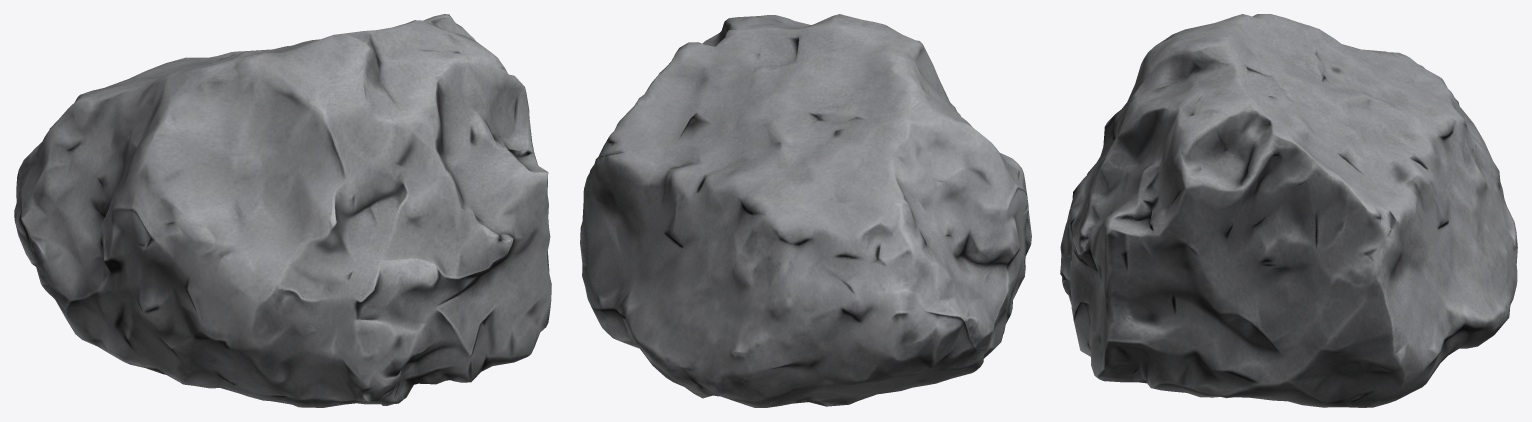
The model's file is rock-4.glb.
3 renders of one model, left to right at view 1: azimuth 30°, elevation 25°; view 2: azimuth 150°, elevation 25°; view 3: azimuth 270°, elevation 25°, orthographic. The views are drawn at different scales.
Visible parts, largest first — view 1: Mesh_0; view 2: Mesh_0; view 3: Mesh_0.
Boxes of the visible parts, x1,y1,x2,y2 form: Mesh_0: (14, 14, 551, 407); Mesh_0: (580, 14, 1031, 407); Mesh_0: (1060, 14, 1517, 407).
Bounding box in the file's own units: 2 × 1.43 × 2.
1 material, 1 textured.
